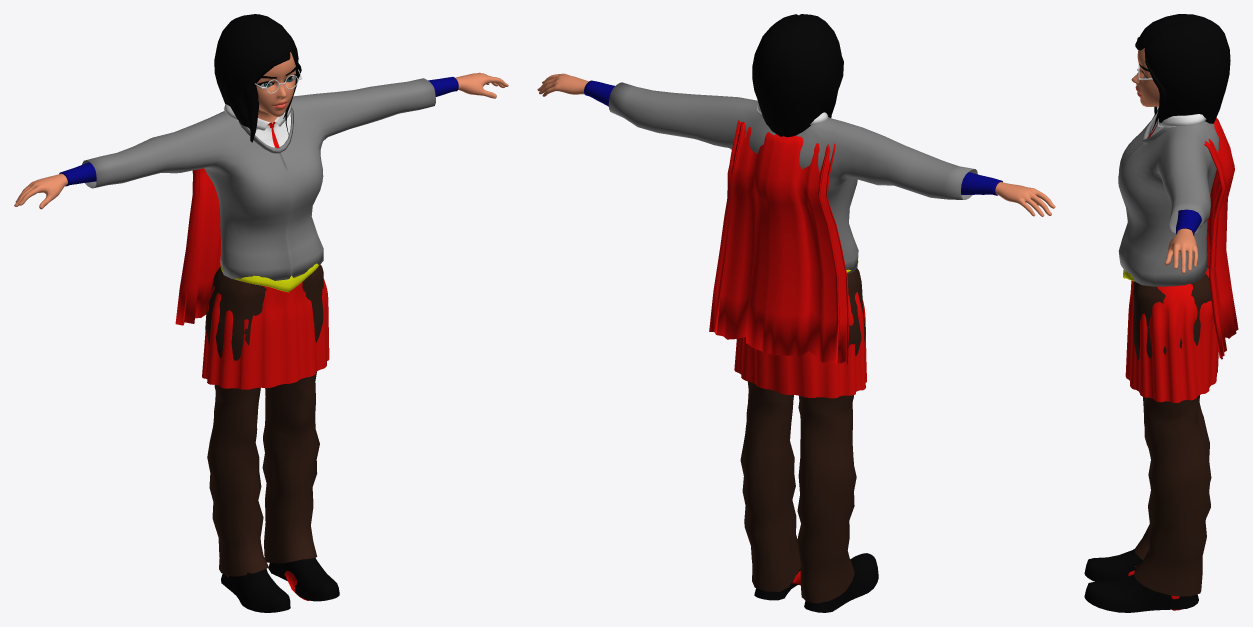
Rendered from Girl2.fbx.
The picture shows the model from 3 angles, left to right: view 1: azimuth 30°, elevation 25°; view 2: azimuth 150°, elevation 25°; view 3: azimuth 270°, elevation 25°; orthographic projection. The views are drawn at different scales.
Visible parts, largest first — view 1: Shirt_Sweter, Harry PAnt, Skirt, Hair, Supergirl_Suit, Harry_Shoes, Body; view 2: Supergirl_Suit, Harry PAnt, Shirt_Sweter, Hair, Skirt, Body, Harry_Shoes; view 3: Harry PAnt, Shirt_Sweter, Skirt, Hair, Supergirl_Suit, Harry_Shoes, Body.
Part boxes in pixels (left/top/right/bottom): Shirt_Sweter: left=82, top=78, right=435, bottom=281; Harry PAnt: left=205, top=264, right=323, bottom=576; Skirt: left=202, top=263, right=329, bottom=389; Hair: left=214, top=14, right=301, bottom=142; Supergirl_Suit: left=59, top=77, right=458, bottom=325; Harry_Shoes: left=221, top=558, right=339, bottom=612; Body: left=14, top=52, right=508, bottom=209; Supergirl_Suit: left=584, top=80, right=1002, bottom=364; Harry PAnt: left=740, top=268, right=865, bottom=603; Shirt_Sweter: left=608, top=82, right=977, bottom=273; Hair: left=752, top=14, right=843, bottom=137; Skirt: left=734, top=260, right=866, bottom=398; Body: left=537, top=73, right=1055, bottom=216; Harry_Shoes: left=754, top=553, right=878, bottom=612; Harry PAnt: left=1133, top=265, right=1211, bottom=596; Shirt_Sweter: left=1118, top=106, right=1218, bottom=286; Skirt: left=1123, top=267, right=1218, bottom=402; Hair: left=1135, top=14, right=1230, bottom=135; Supergirl_Suit: left=1176, top=118, right=1238, bottom=359; Harry_Shoes: left=1084, top=549, right=1198, bottom=612; Body: left=1131, top=48, right=1197, bottom=273.
Bounding box in the file's own units: 125 × 137 × 33.2.
